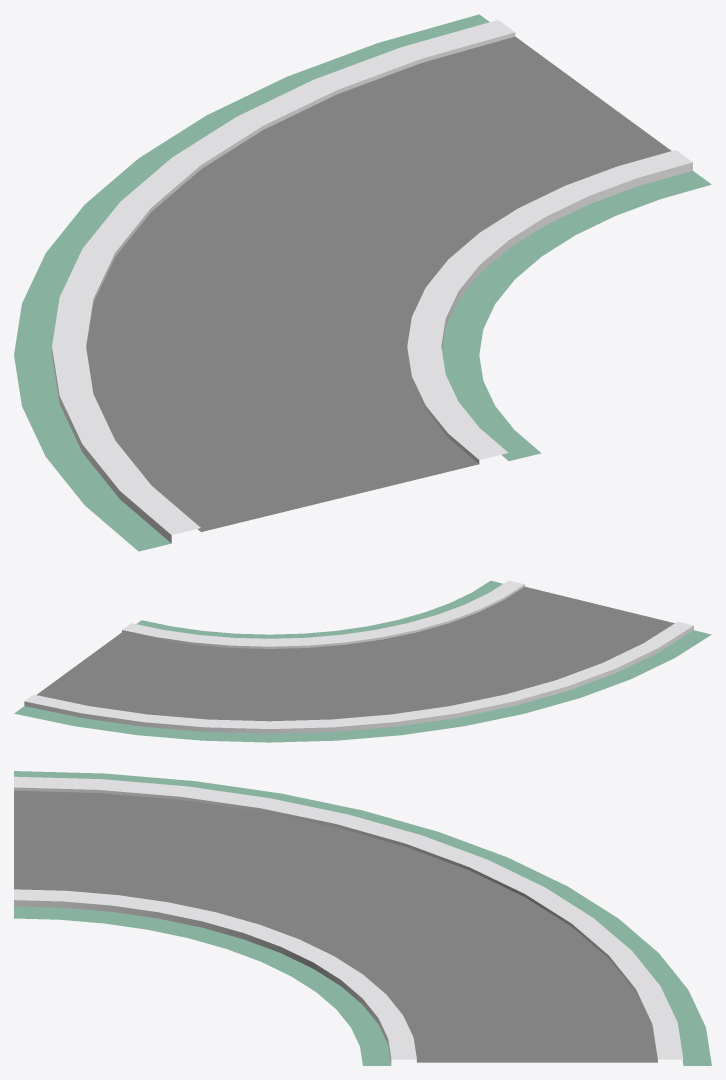
Rendered from roadCornerLarge.glb.
The picture shows the model from 3 angles, top to bottom: view 1: azimuth 30°, elevation 25°; view 2: azimuth 150°, elevation 25°; view 3: azimuth 270°, elevation 25°; orthographic projection. The views are drawn at different scales.
Visible parts, largest first — view 1: roadCornerLarge(Clone); view 2: roadCornerLarge(Clone); view 3: roadCornerLarge(Clone).
Boxes of the visible parts, box(x1,y1,x2,y2) form: roadCornerLarge(Clone): box(14, 14, 711, 551); roadCornerLarge(Clone): box(14, 580, 711, 742); roadCornerLarge(Clone): box(14, 771, 711, 1065).
Size of the model in its own units: 2 by 0.02 by 2.
Materials: 1 (1 with a texture image).
